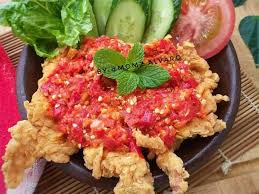ayam_geprek: (10, 39, 232, 189)
